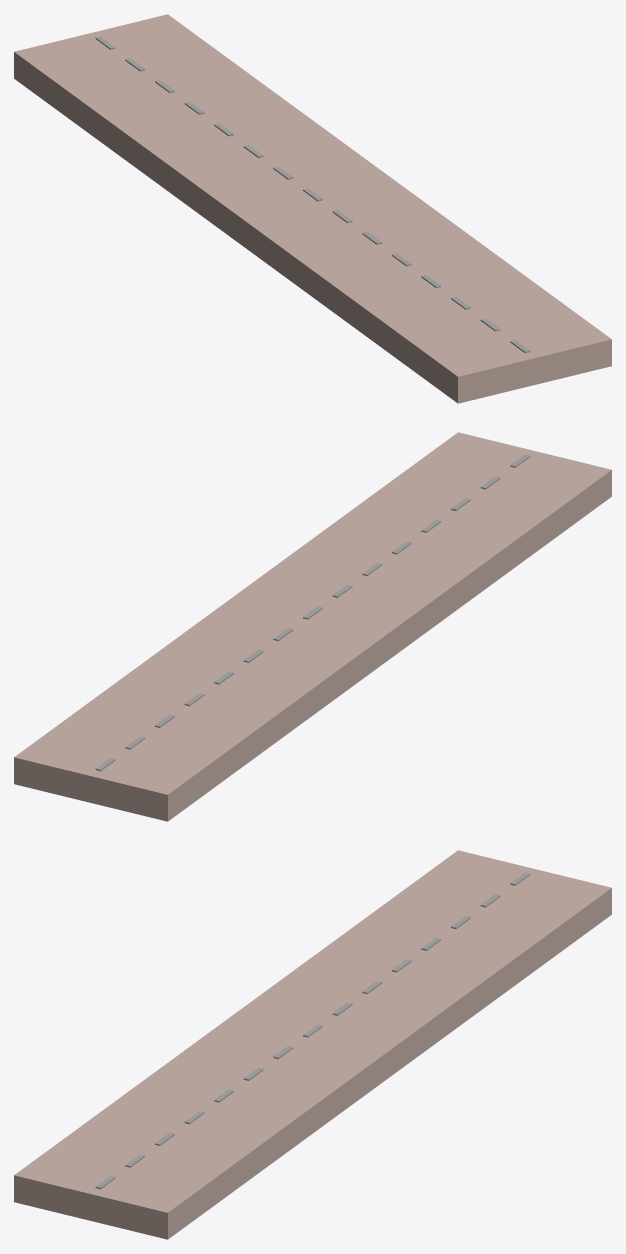
Rendered from Road.fbx.
3 views of the same model, one above another, from view 1: azimuth 30°, elevation 25°; view 2: azimuth 150°, elevation 25°; view 3: azimuth 330°, elevation 25° (orthographic).
Parts seen in each view (by area): view 1: pCube1; view 2: pCube1; view 3: pCube1.
Boxes of the visible parts, x1,y1,x2,y2 form: pCube1: [14, 14, 611, 403]; pCube1: [14, 432, 611, 821]; pCube1: [14, 850, 611, 1239].
Size of the model in its own units: 6 by 1.05 by 30.
